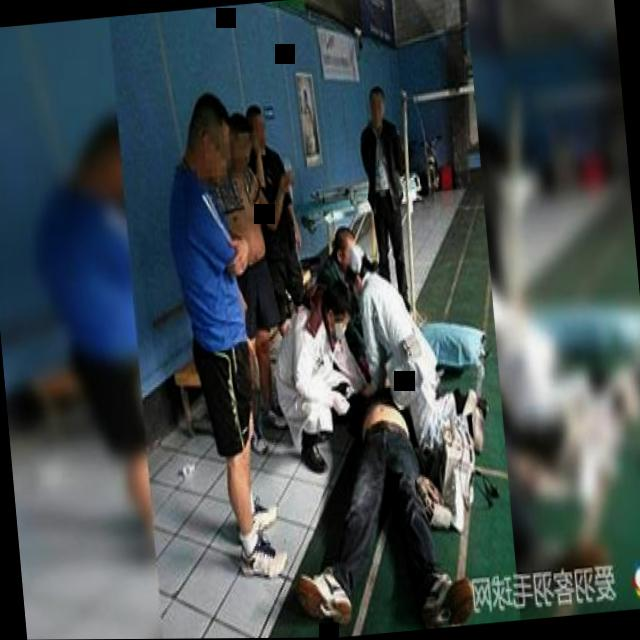Fall-Detected: (263, 372, 486, 636)
